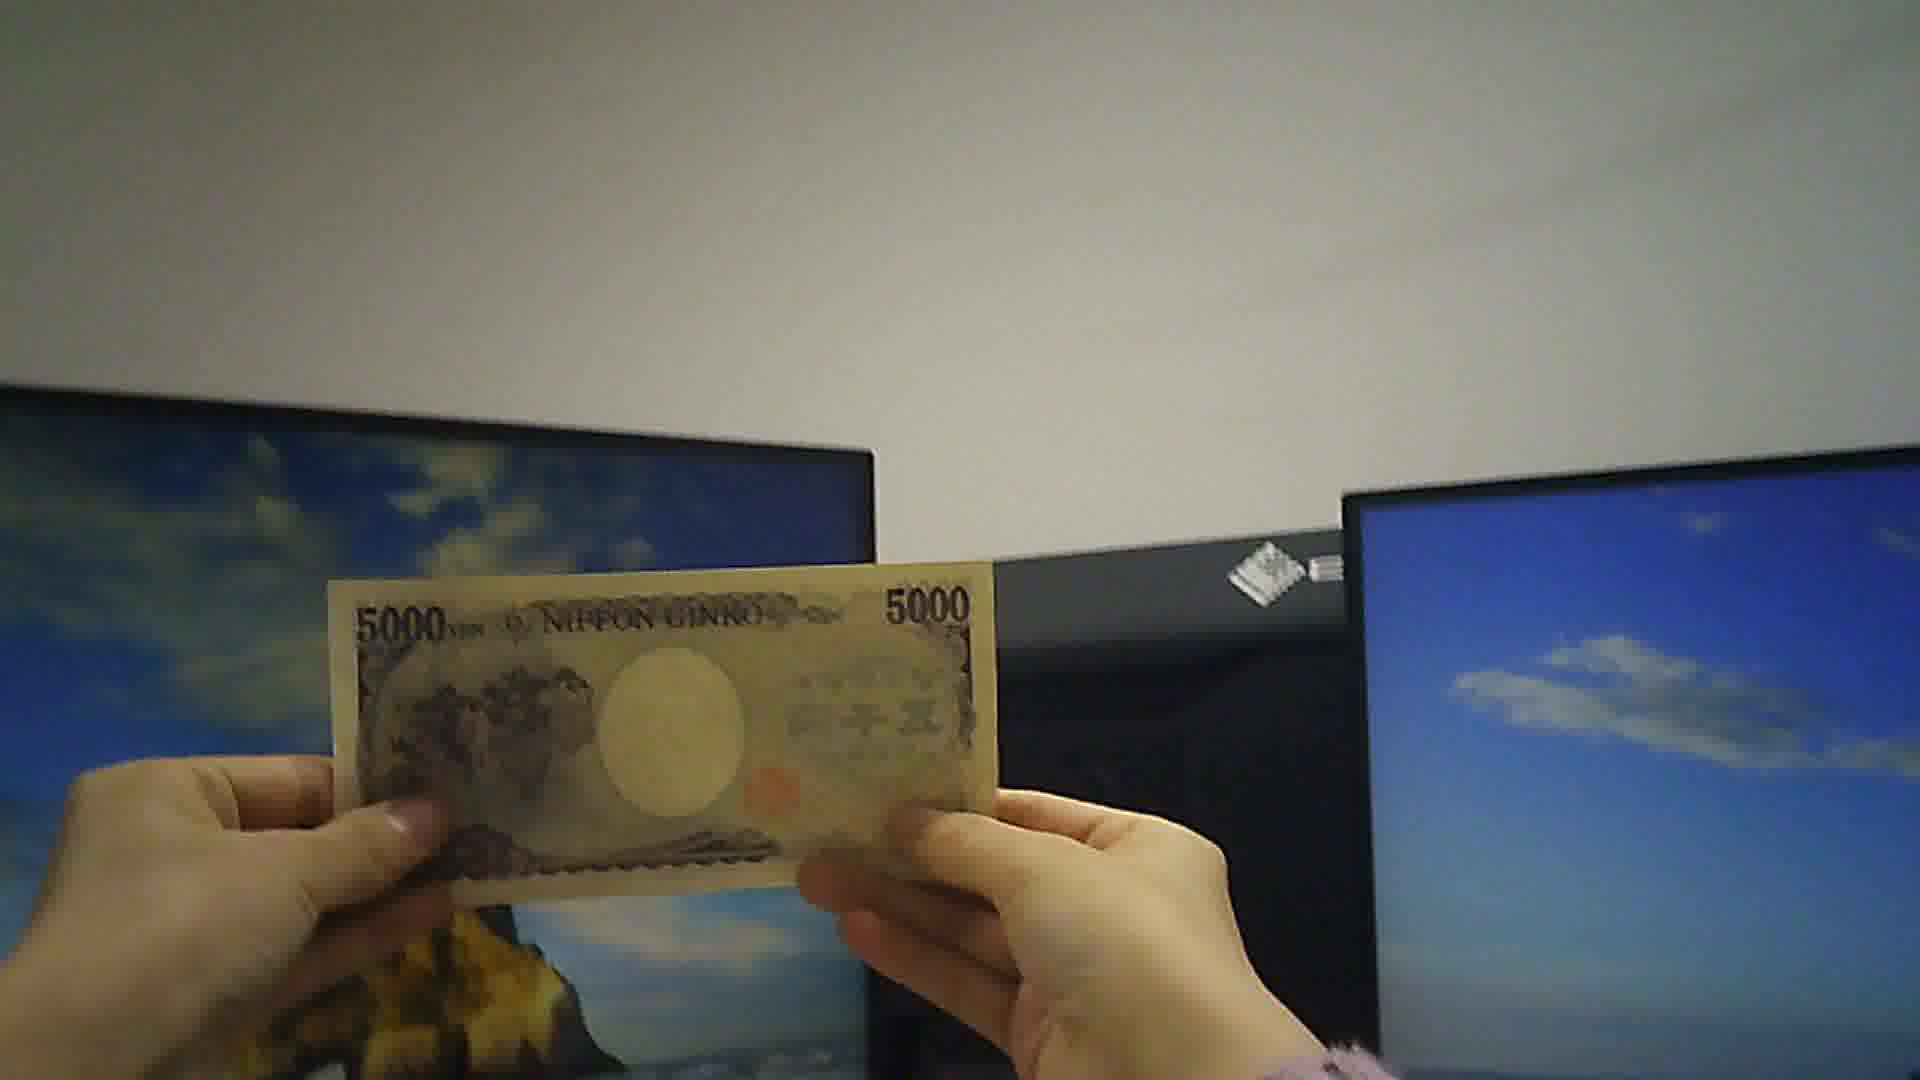5,000 Yen: (309, 559, 1021, 876)
